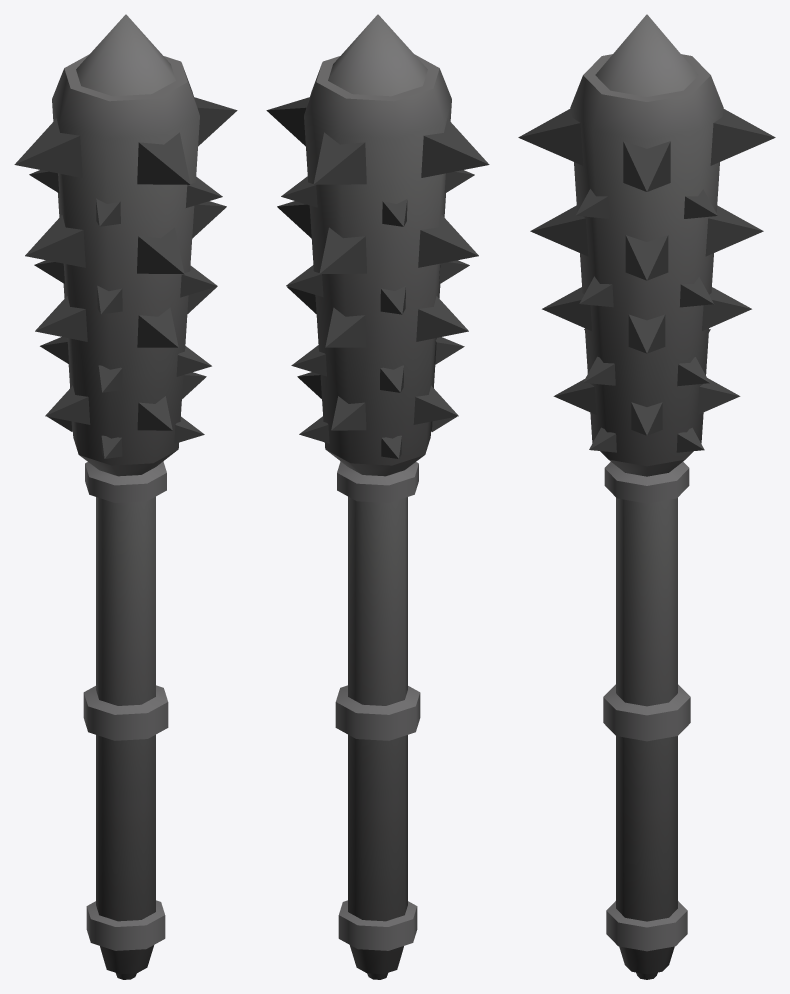
Rendered from Weapon_Mace_01.glb.
3 renders of one model, left to right at view 1: azimuth 30°, elevation 25°; view 2: azimuth 150°, elevation 25°; view 3: azimuth 270°, elevation 25°, orthographic.
Visible parts, largest first — view 1: Weapon_Mace_01; view 2: Weapon_Mace_01; view 3: Weapon_Mace_01.
Part boxes in pixels (<box>): Weapon_Mace_01: <box>14,14,237,979</box>; Weapon_Mace_01: <box>266,14,489,979</box>; Weapon_Mace_01: <box>518,14,775,979</box>.
Size of the model in its own units: 0.253 by 1.04 by 0.253.
1 material, 1 textured.
